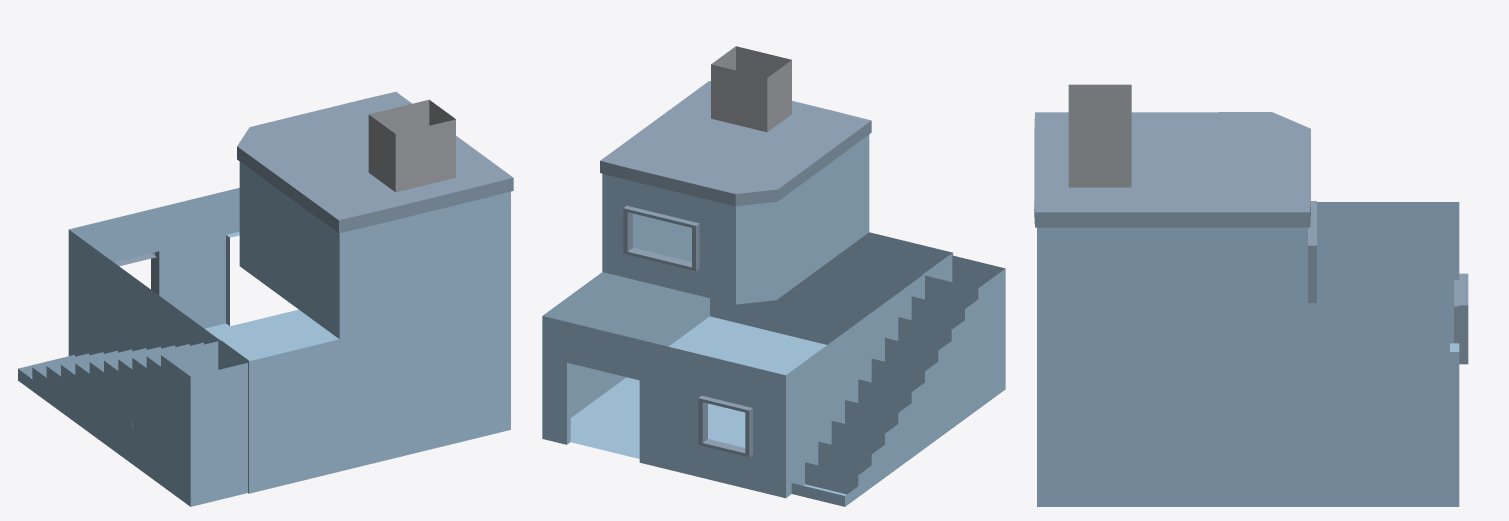
The model's file is Bld_O_high_L3_C.fbx.
3 renders of one model, left to right at view 1: azimuth 30°, elevation 25°; view 2: azimuth 150°, elevation 25°; view 3: azimuth 270°, elevation 25°, orthographic. The views are drawn at different scales.
Visible parts, largest first — view 1: Bld_O_high_L3_C_LOD0; view 2: Bld_O_high_L3_C_LOD0; view 3: Bld_O_high_L3_C_LOD0.
Part boxes in pixels (x1=…): Bld_O_high_L3_C_LOD0: x1=18, y1=92, x2=513, y2=506; Bld_O_high_L3_C_LOD0: x1=542, y1=46, x2=1005, y2=506; Bld_O_high_L3_C_LOD0: x1=1034, y1=84, x2=1468, y2=506.
Size of what is drawn, in the model's own units: 1380 by 1587 by 1464.
1 material, 1 textured.
